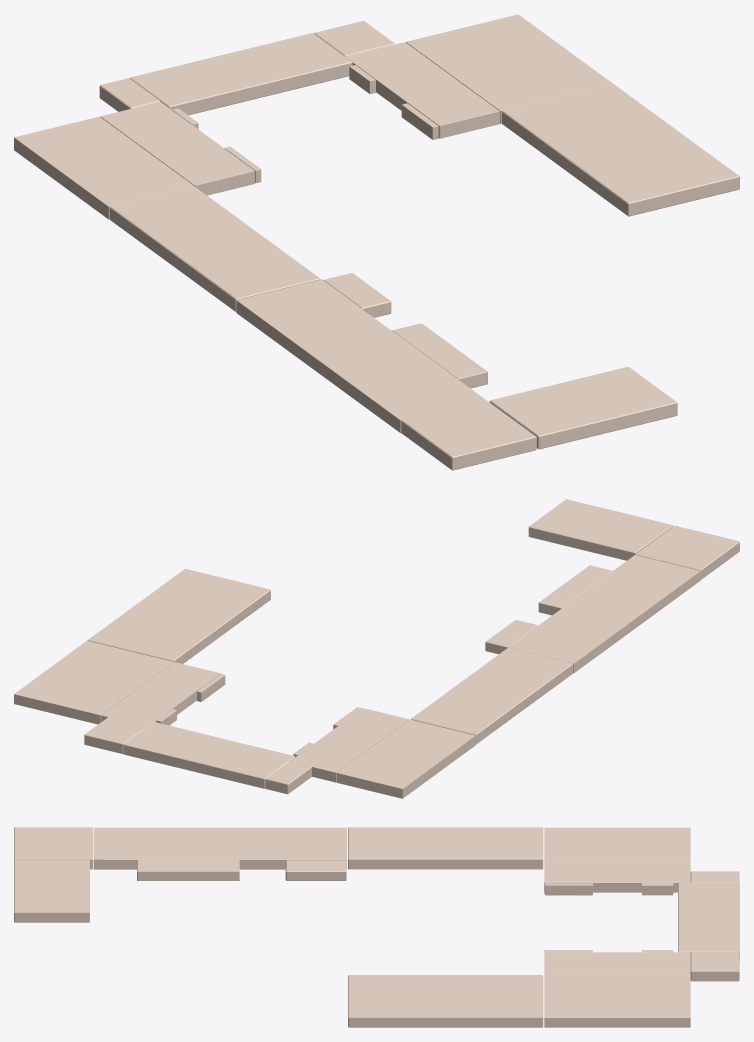
Rendered from !PH_DeckBoards.fbx.
3 views of the same model, one above another, from view 1: azimuth 30°, elevation 25°; view 2: azimuth 150°, elevation 25°; view 3: azimuth 270°, elevation 25° (orthographic). The views are drawn at different scales.
Visible parts, largest first — view 1: deck_5, deck_13, deck_12, deck_4, deck_17, deck_11, deck_6, deck_3, deck_10, deck_7, deck_14, deck_18 (+2 smaller); view 2: deck_13, deck_5, deck_12, deck_4, deck_11, deck_17, deck_6, deck_10, deck_3, deck_7, deck_14, deck_18 (+2 smaller); view 3: deck_5, deck_13, deck_12, deck_4, deck_11, deck_6, deck_17, deck_10, deck_3, deck_7, deck_14, deck_18 (+4 smaller).
Part boxes in pixels (bbox=[...]): deck_5: bbox=[502, 84, 739, 216]; deck_13: bbox=[236, 279, 484, 433]; deck_12: bbox=[109, 186, 320, 312]; deck_4: bbox=[406, 14, 612, 123]; deck_17: bbox=[129, 33, 352, 115]; deck_11: bbox=[14, 116, 193, 219]; deck_6: bbox=[489, 366, 677, 449]; deck_3: bbox=[345, 42, 499, 138]; deck_10: bbox=[100, 101, 254, 195]; deck_7: bbox=[401, 399, 536, 470]; deck_14: bbox=[392, 323, 487, 388]; deck_18: bbox=[314, 20, 394, 56]; deck_13: bbox=[508, 555, 700, 673]; deck_5: bbox=[87, 568, 270, 663]; deck_12: bbox=[411, 647, 573, 744]; deck_4: bbox=[14, 640, 173, 724]; deck_11: bbox=[336, 719, 475, 798]; deck_17: bbox=[123, 722, 295, 788]; deck_6: bbox=[528, 499, 673, 560]; deck_10: bbox=[290, 708, 409, 782]; deck_3: bbox=[101, 662, 220, 726]; deck_7: bbox=[635, 525, 739, 579]; deck_14: bbox=[538, 565, 611, 615]; deck_18: bbox=[84, 717, 146, 753]; deck_5: bbox=[348, 975, 543, 1027]; deck_13: bbox=[93, 827, 346, 869]; deck_12: bbox=[348, 827, 543, 869]; deck_4: bbox=[544, 975, 690, 1027]; deck_11: bbox=[544, 827, 690, 859]; deck_6: bbox=[14, 860, 89, 922]; deck_17: bbox=[678, 882, 739, 961]; deck_10: bbox=[544, 860, 690, 892]; deck_3: bbox=[544, 952, 690, 975]; deck_7: bbox=[14, 827, 92, 869]; deck_14: bbox=[137, 860, 239, 880]; deck_18: bbox=[690, 952, 739, 981].
Bounding box in the file's own units: 11.12 × 17.95 × 0.291.
